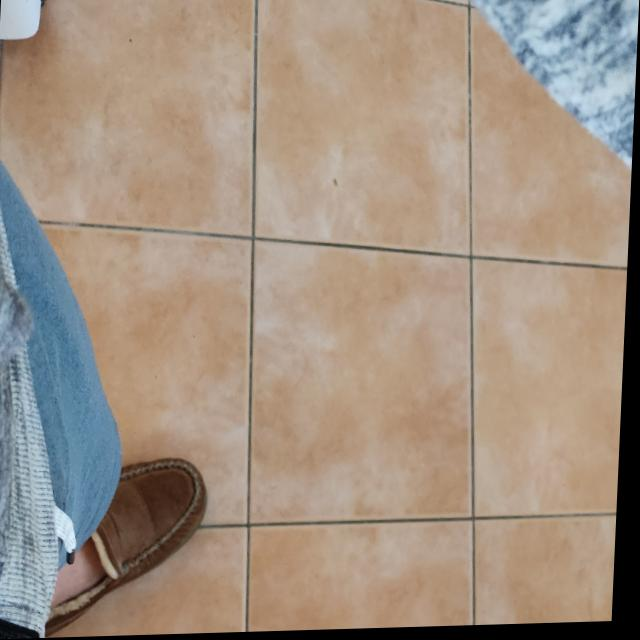soy sauce: (588, 561, 620, 626)
